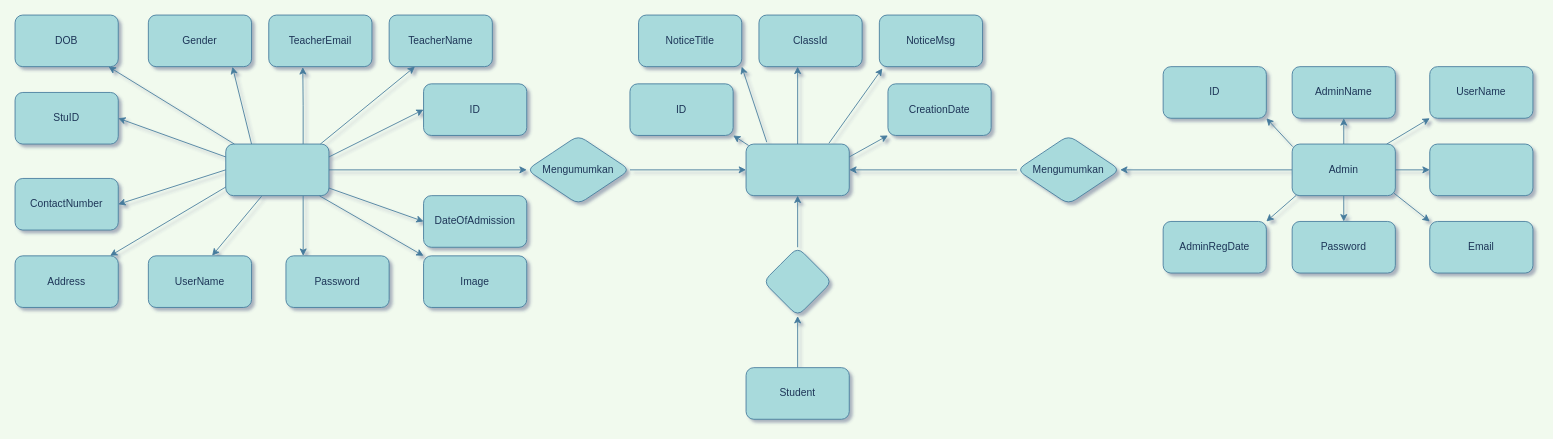
Some shapes in this 1553 by 439 pixel diagram are drawn without their labels. The shapes that lost their labels are listed below. From the top down, each one's centre as x and y in pixels, then its label:
[277,169]: Teacher
[797,169]: Notice
[1481,169]: MobileNumber
[797,281]: Melihat
